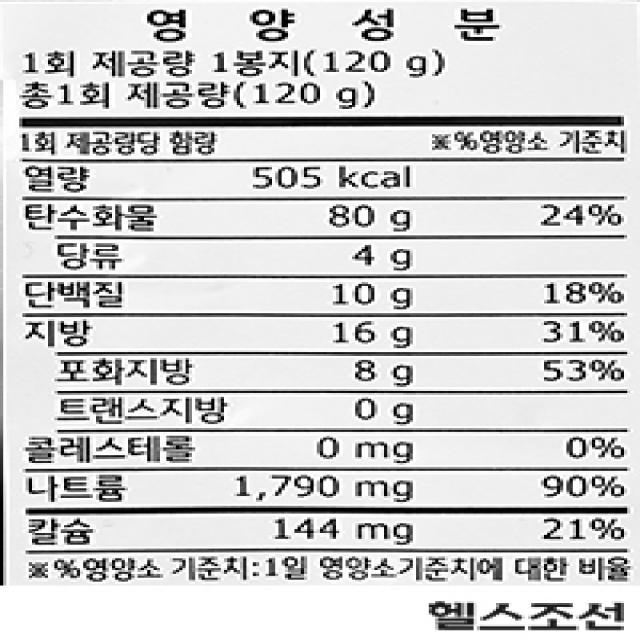Nutrition Label: (13, 9, 640, 597)
